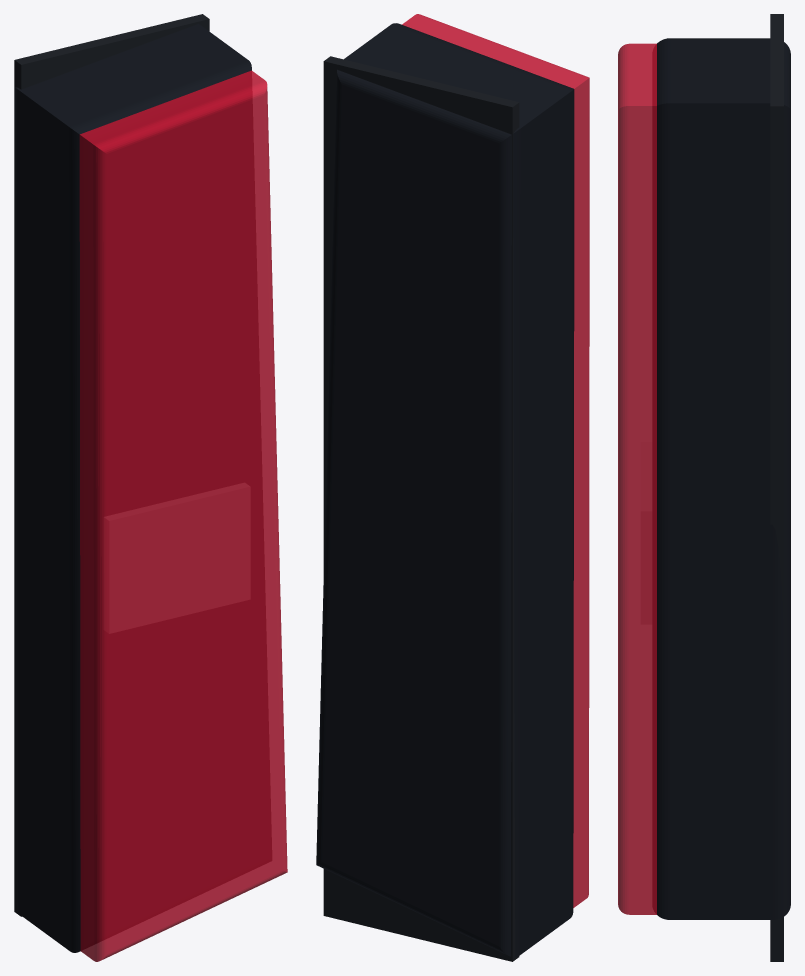
Rendered from lanterna_traseira_led.glb.
The picture shows the model from 3 angles, left to right: view 1: azimuth 30°, elevation 25°; view 2: azimuth 150°, elevation 25°; view 3: azimuth 270°, elevation 25°; orthographic projection.
Parts seen in each view (by area): view 1: LanternaTraseiraVerticalLED; view 2: LanternaTraseiraVerticalLED; view 3: LanternaTraseiraVerticalLED.
Part boxes in pixels (x1,y1,x2,y2): LanternaTraseiraVerticalLED: (14,14,287,961); LanternaTraseiraVerticalLED: (316,14,589,961); LanternaTraseiraVerticalLED: (618,14,790,961).
Bounding box in the file's own units: 1.02 × 4.15 × 0.76.
